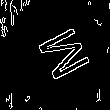M_SW: (23, 21, 87, 84)
